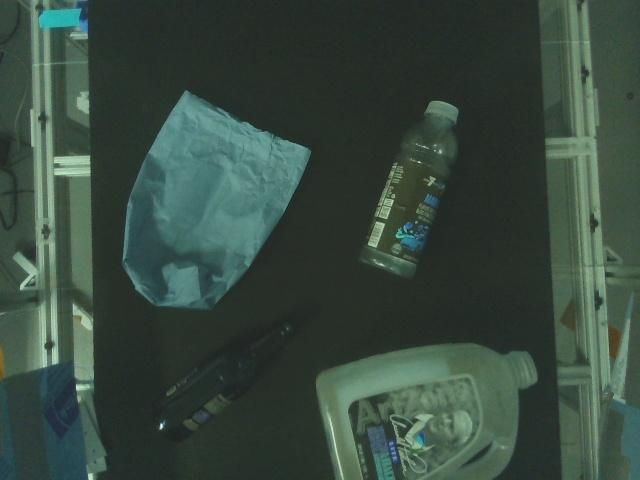glass: (147, 318, 298, 444)
paper: (121, 90, 313, 310)
plastic: (315, 341, 539, 480), (358, 100, 461, 281)
